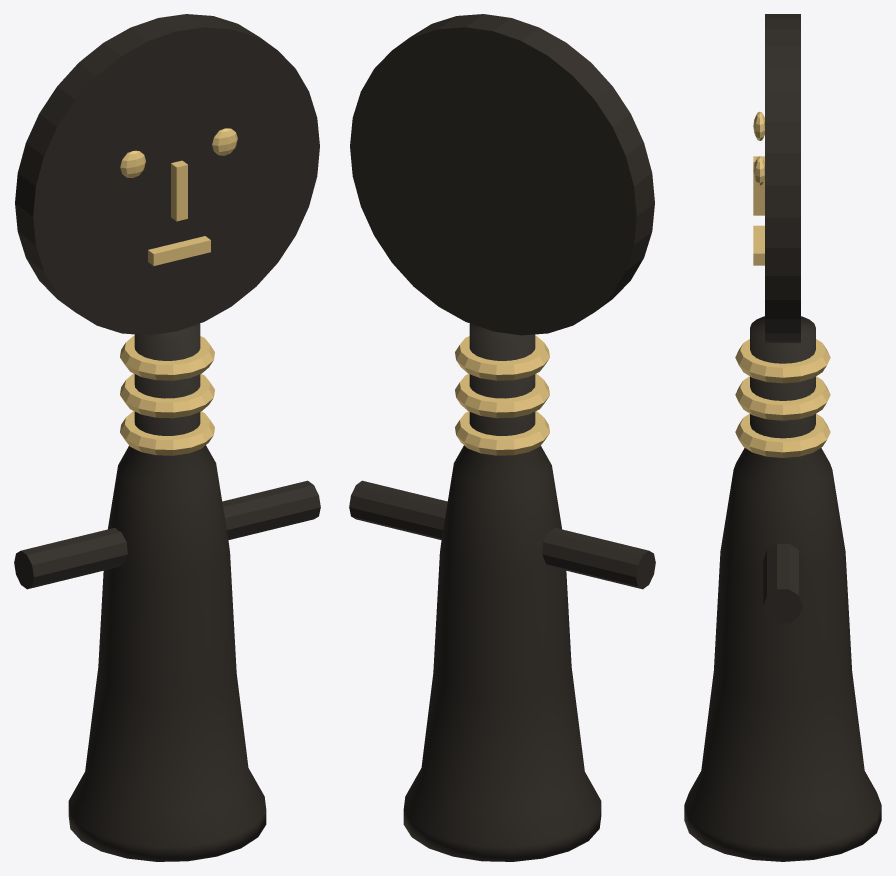
Rendered from exhibit6_akuaba.glb.
3 renders of one model, left to right at view 1: azimuth 30°, elevation 25°; view 2: azimuth 150°, elevation 25°; view 3: azimuth 270°, elevation 25°, orthographic.
Parts seen in each view (by area): view 1: akuaba_doll; view 2: akuaba_doll; view 3: akuaba_doll.
Part boxes in pixels (left/top/right/bottom): akuaba_doll: left=14, top=14, right=320, bottom=861; akuaba_doll: left=349, top=14, right=655, bottom=861; akuaba_doll: left=684, top=14, right=881, bottom=861.
Size of the model in its own units: 0.2 by 0.53 by 0.12.
